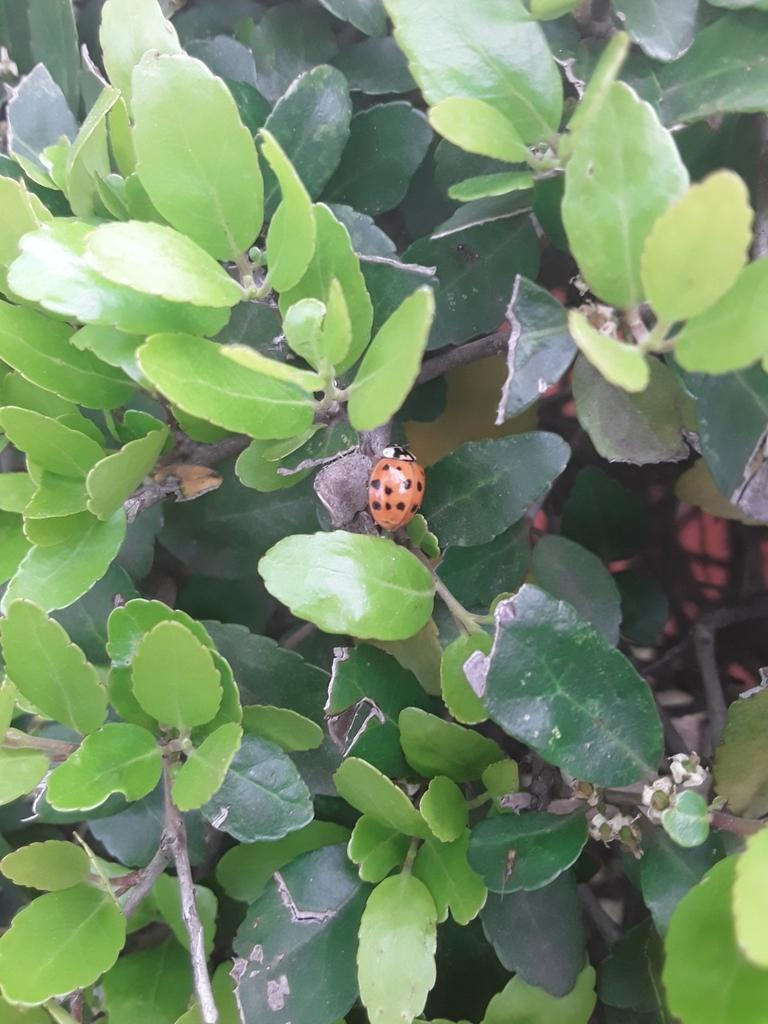ladybug: (366, 441, 428, 534)
